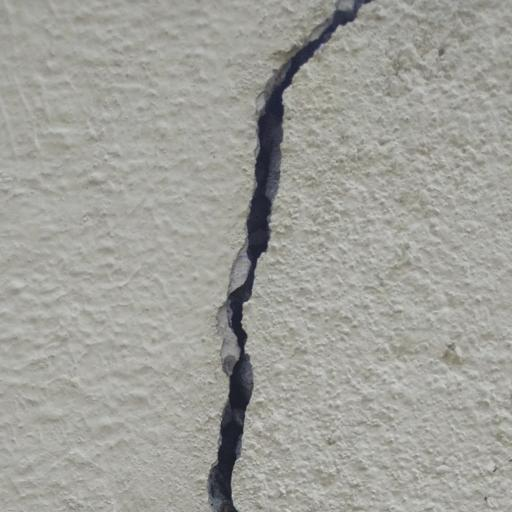major_crack: (184, 0, 384, 512)
